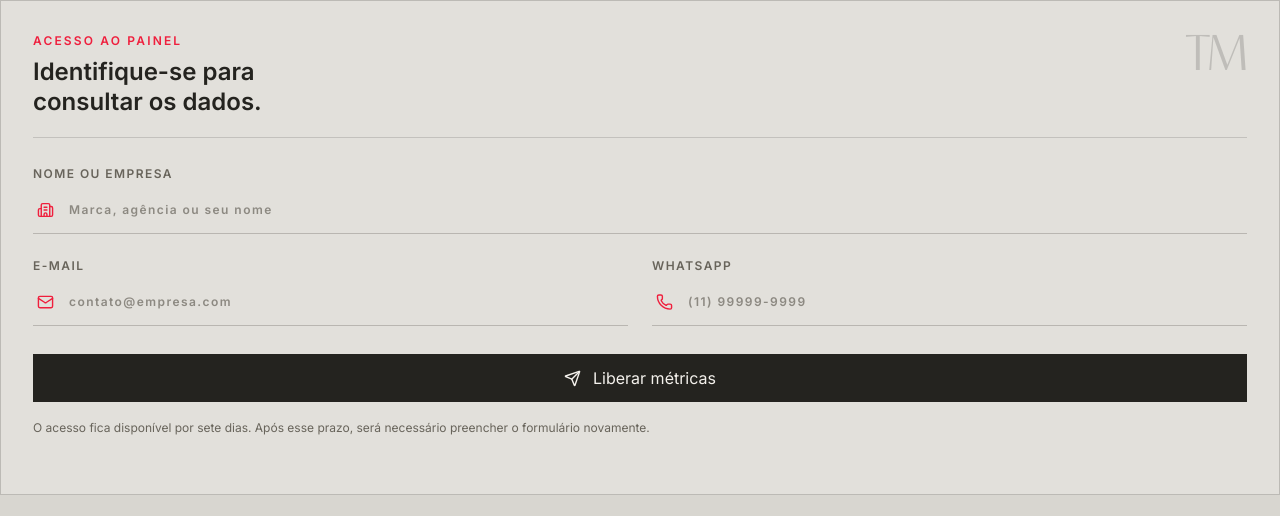
Test: MetricsLeadForm › posts lead data with an empty honeypot and shows success before redirecting
This screenshot has width=1280, height=516.
Type "Marca Editorial" into the field labelled "Nome ou empresa".
click(640, 210); type("Marca Editorial")  # box top-left (33, 186), bottom-right (1247, 234)
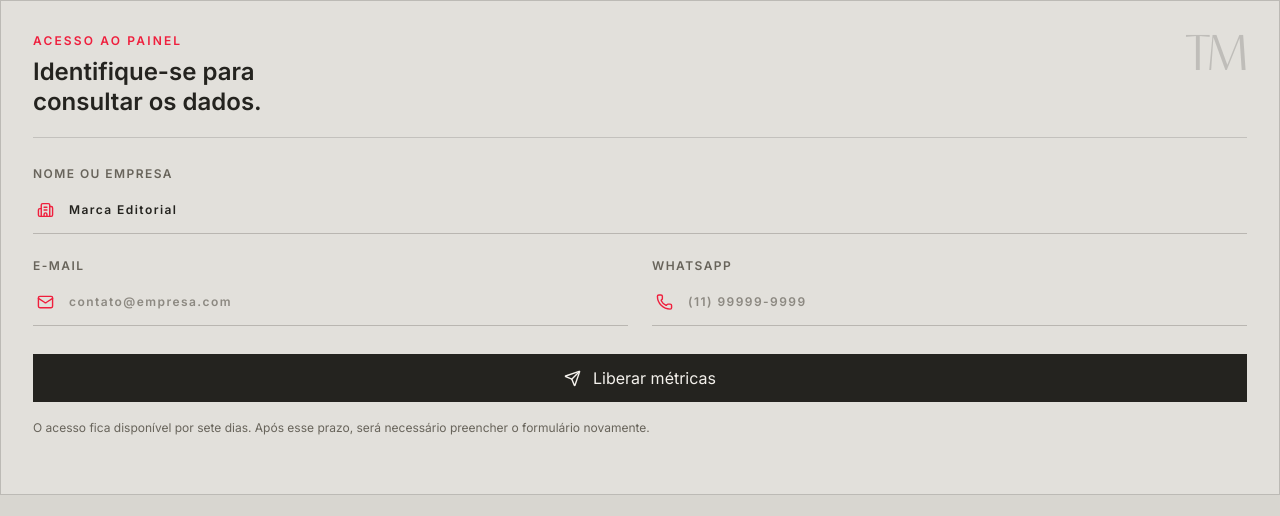
Type "contato@marca.com" into the field named "email".
click(330, 302); type("contato@marca.com")  # box top-left (33, 278), bottom-right (628, 326)
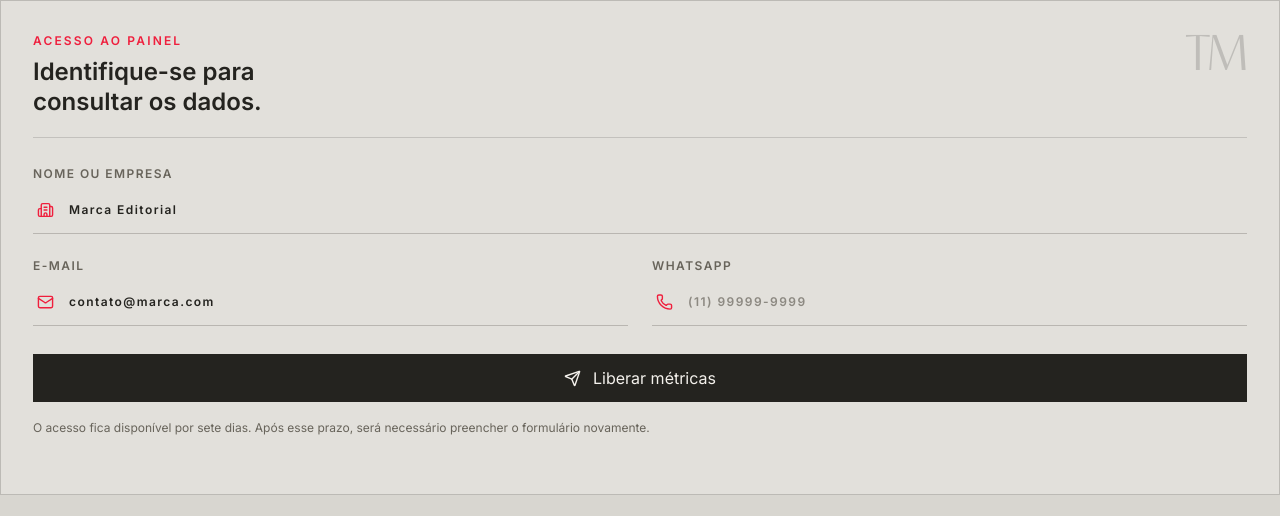
Type "11999999999" into the field labelled "WhatsApp".
click(950, 302); type("11999999999")  # box top-left (652, 278), bottom-right (1247, 326)
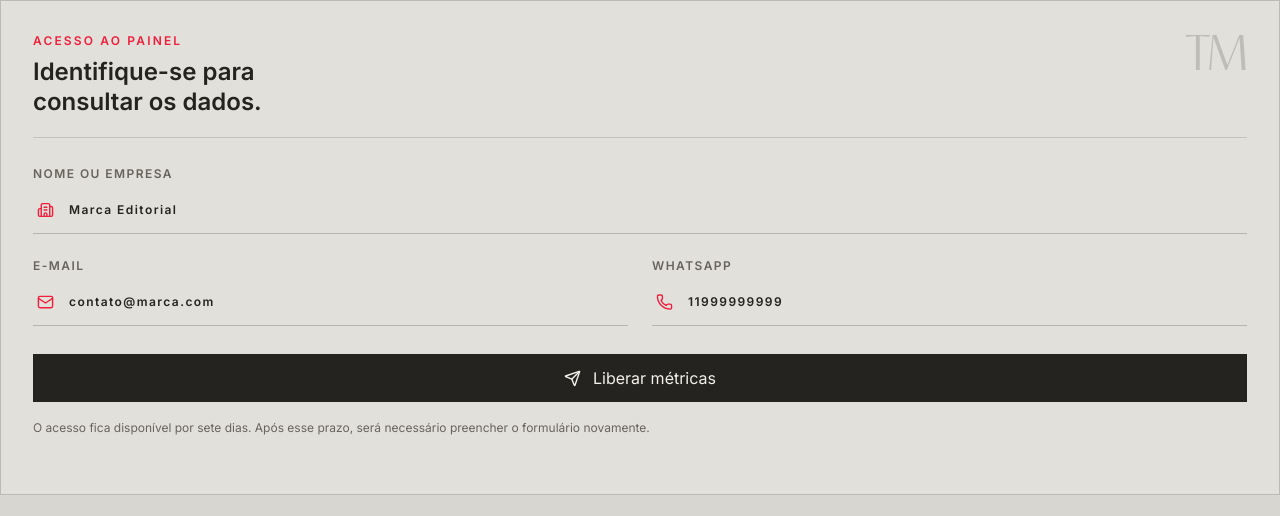
Click the button "Liberar métricas".
click(640, 378)  # box top-left (33, 354), bottom-right (1247, 402)
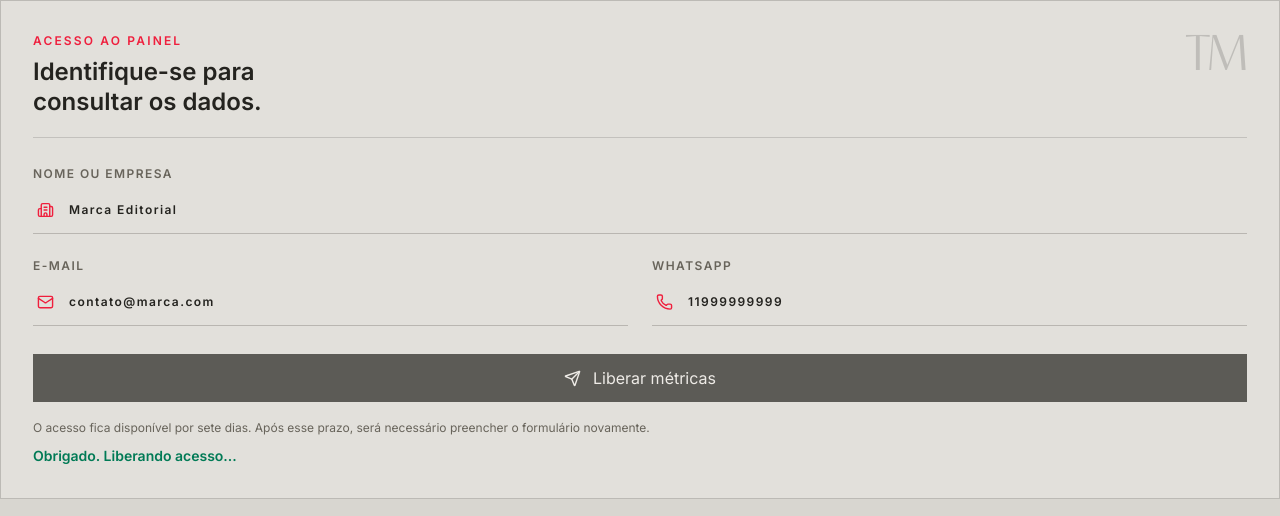
Now the text "Obrigado. Liberando acesso..." is shown, box top-left (33, 447), bottom-right (237, 464)
